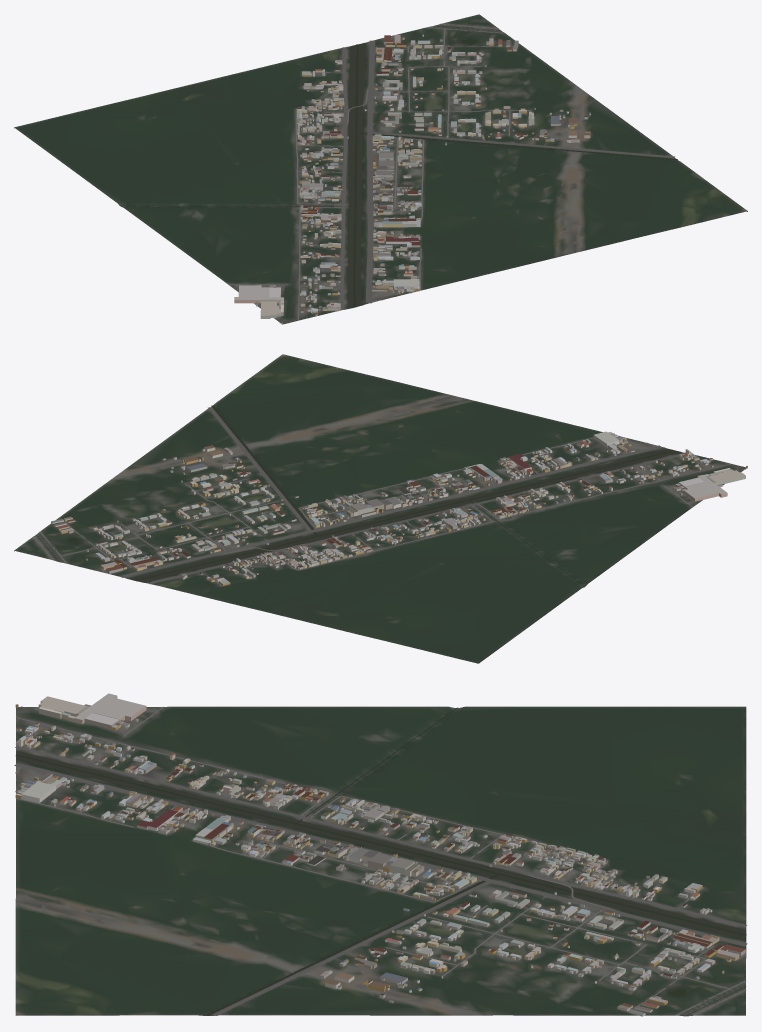
The picture shows the model from 3 angles, top to bottom: view 1: azimuth 30°, elevation 25°; view 2: azimuth 150°, elevation 25°; view 3: azimuth 270°, elevation 25°; orthographic projection. The views are drawn at different scales.
Visible parts, largest first — view 1: ground, buildings, roads, water; view 2: ground, buildings, roads, water; view 3: ground, buildings, roads, water.
Boxes of the visible parts, bbox=[...] form: ground: bbox=[14, 14, 747, 324]; buildings: bbox=[234, 34, 590, 324]; roads: bbox=[228, 23, 674, 323]; water: bbox=[120, 25, 677, 308]; ground: bbox=[14, 354, 746, 663]; buildings: bbox=[51, 431, 747, 585]; roads: bbox=[33, 407, 745, 585]; water: bbox=[36, 405, 680, 586]; ground: bbox=[15, 706, 746, 1016]; buildings: bbox=[15, 693, 745, 1016]; roads: bbox=[14, 706, 747, 1015]; water: bbox=[15, 707, 746, 1015].
Size of the model in its own units: 1447 by 19.8 by 1407.
